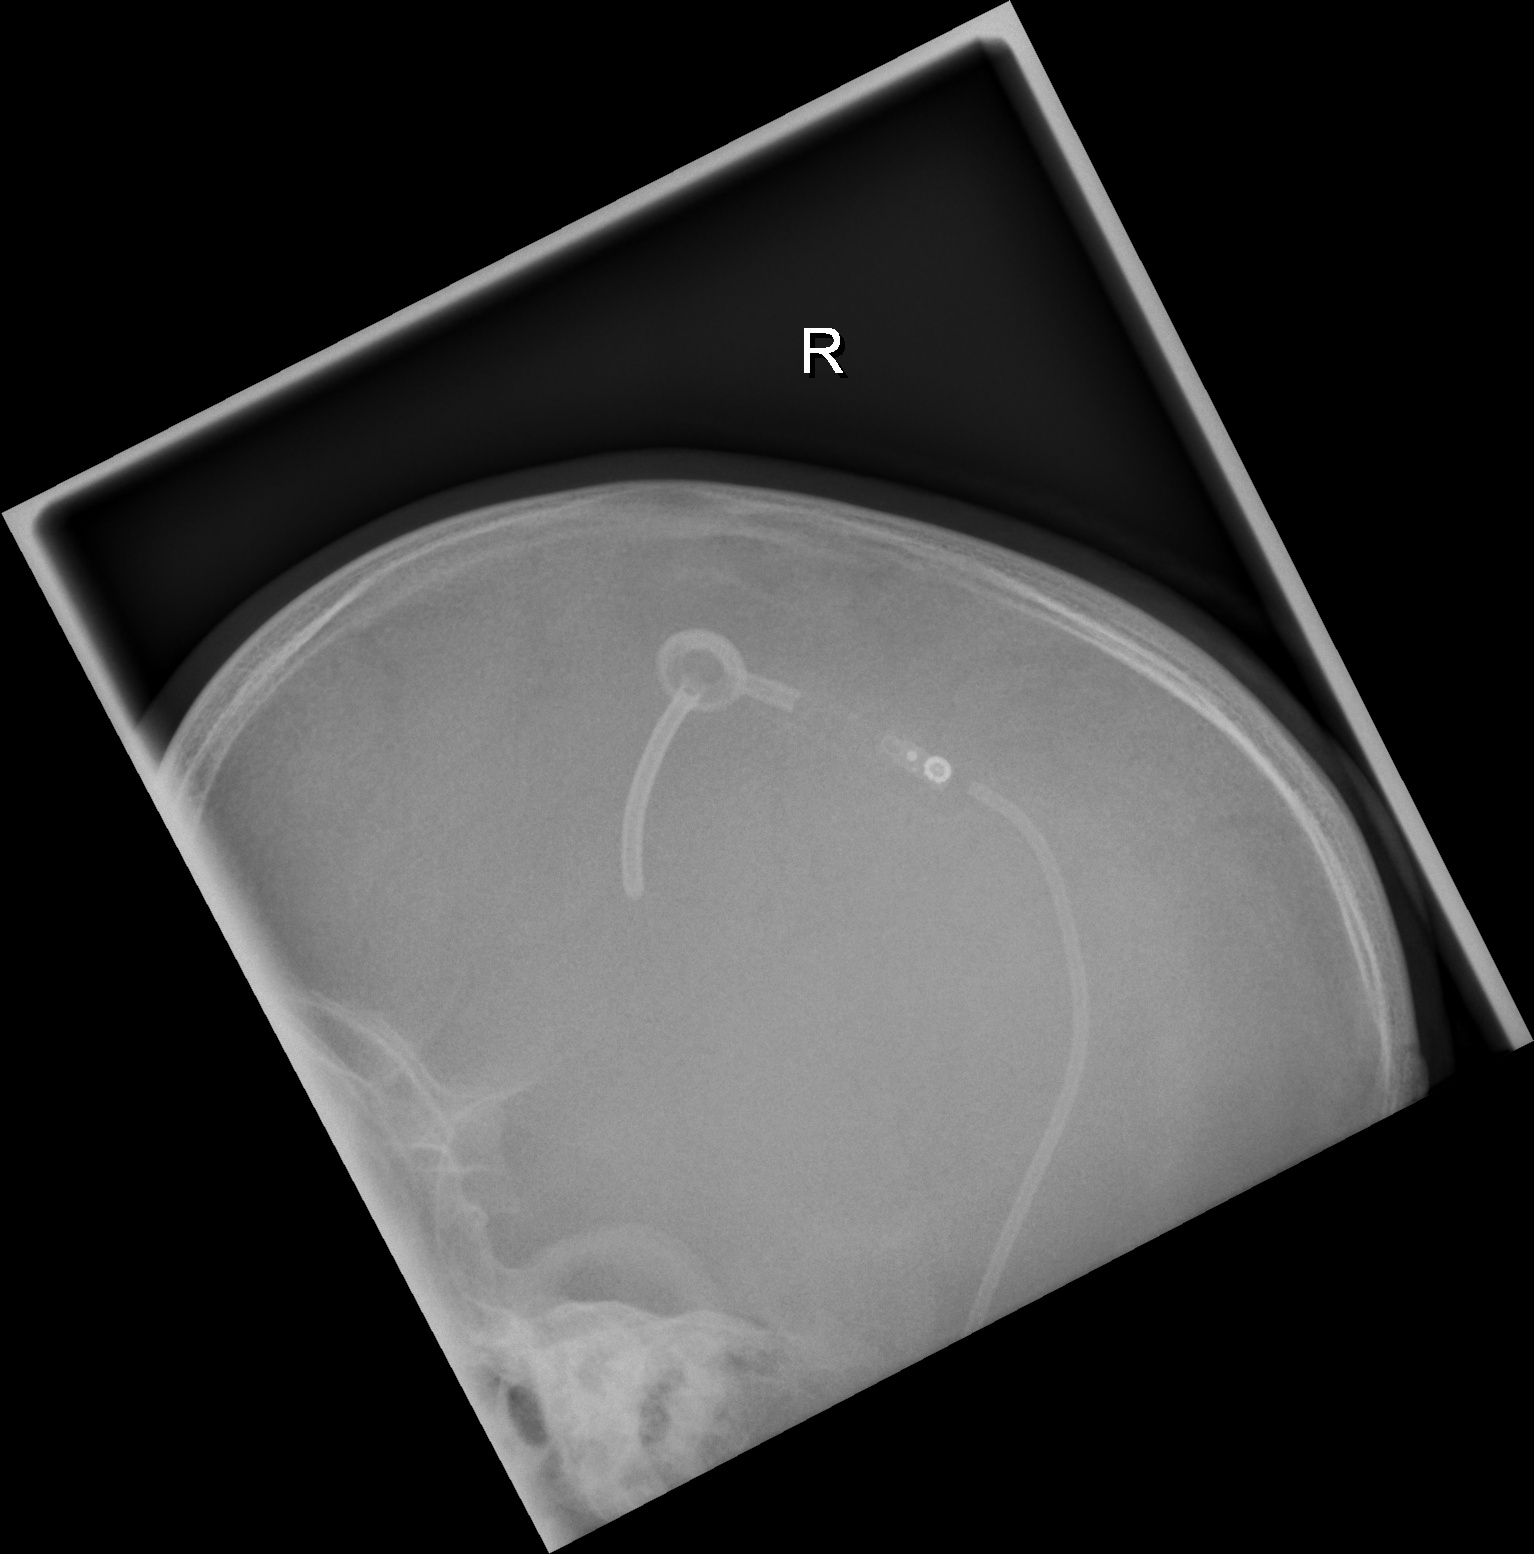Codman Hakim: (895, 733, 964, 799)
